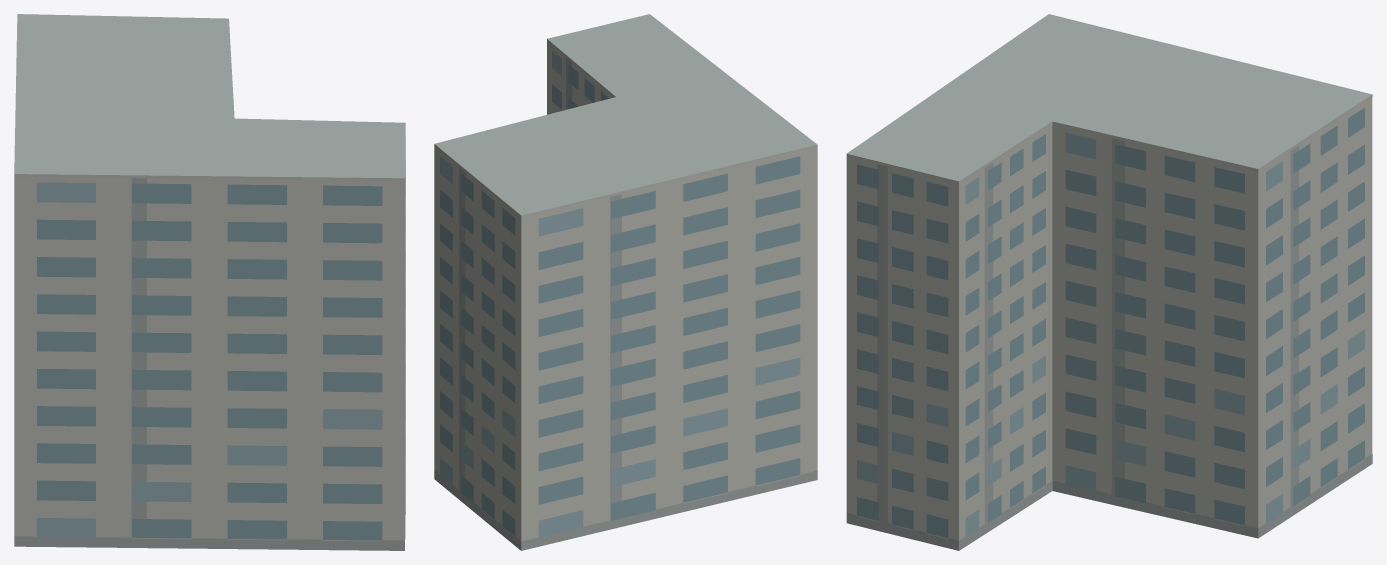
The model's file is residential-72534b8a-6817-4188-bdf6-dcb02909eb3e.glb.
3 views of the same model, side by side, from view 1: azimuth 30°, elevation 25°; view 2: azimuth 150°, elevation 25°; view 3: azimuth 270°, elevation 25° (orthographic). The views are drawn at different scales.
Parts seen in each view (by area): view 1: residential-72534b8a-6817-4188-bdf6-dcb02909eb3e.tmp; view 2: residential-72534b8a-6817-4188-bdf6-dcb02909eb3e.tmp; view 3: residential-72534b8a-6817-4188-bdf6-dcb02909eb3e.tmp.
Boxes of the visible parts, box(x1,y1,x2,y2) form: residential-72534b8a-6817-4188-bdf6-dcb02909eb3e.tmp: box(14, 14, 405, 550); residential-72534b8a-6817-4188-bdf6-dcb02909eb3e.tmp: box(434, 14, 817, 550); residential-72534b8a-6817-4188-bdf6-dcb02909eb3e.tmp: box(846, 14, 1372, 550).
Size of the model in its own units: 31.11 by 32 by 41.29.
